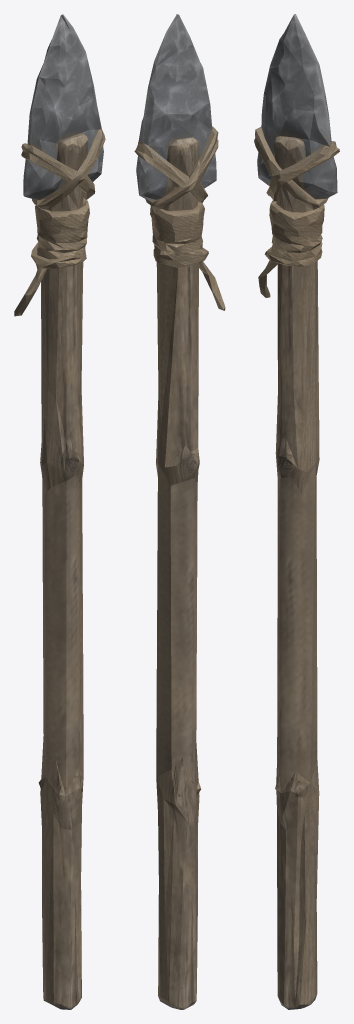
The model's file is spear.fbx.
3 views of the same model, side by side, from view 1: azimuth 30°, elevation 25°; view 2: azimuth 210°, elevation 25°; view 3: azimuth 330°, elevation 25° (orthographic).
Parts seen in each view (by area): view 1: output_unwrapped; view 2: output_unwrapped; view 3: output_unwrapped.
Part boxes in pixels (<box>): output_unwrapped: <box>14,14,105,1009</box>; output_unwrapped: <box>134,14,225,1009</box>; output_unwrapped: <box>254,14,339,1009</box>.
Bounding box in the file's own units: 16.12 × 190 × 12.31.
Materials: 1 (1 with a texture image).
